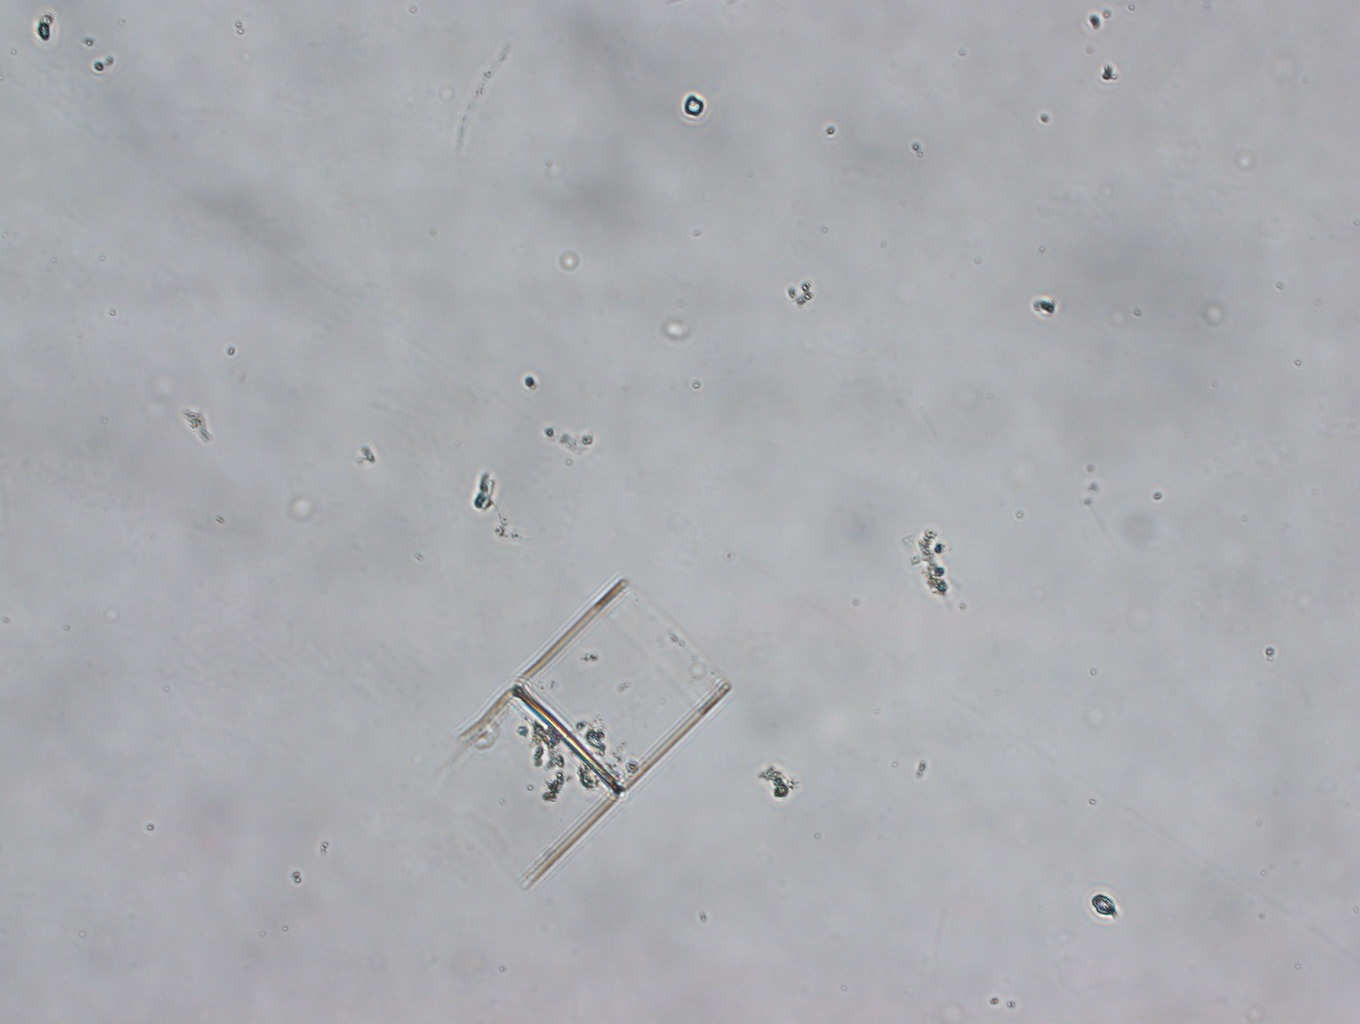guinardia flaccida: (457, 579, 733, 893)
